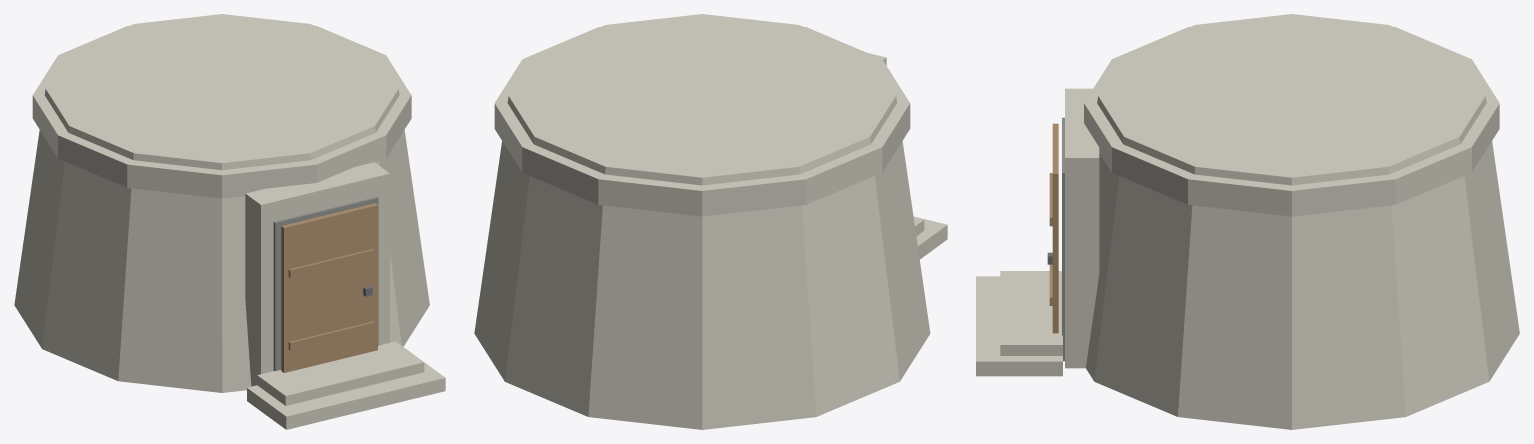
Rendered from lighthouse-and-rocky-coast-lighthouse-base-plinth-f68156e5__36583.glb.
3 renders of one model, left to right at view 1: azimuth 30°, elevation 25°; view 2: azimuth 150°, elevation 25°; view 3: azimuth 270°, elevation 25°, orthographic. The views are drawn at different scales.
Visible parts, largest first — view 1: lighthouse-base-plinth, door/timber; view 2: lighthouse-base-plinth; view 3: lighthouse-base-plinth, door/timber.
Boxes of the visible parts, <box> form: lighthouse-base-plinth: <box>14,14,445,429</box>; door/timber: <box>281,203,377,372</box>; lighthouse-base-plinth: <box>474,14,947,429</box>; lighthouse-base-plinth: <box>976,14,1519,429</box>; door/timber: <box>1049,123,1058,333</box>.
Size of the model in its own units: 4.52 by 2.6 by 5.39.
